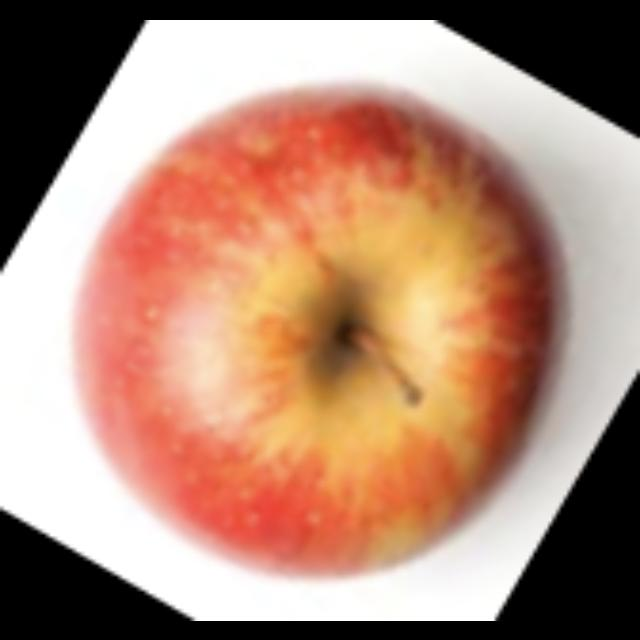Apel Segar: (82, 92, 575, 600)
